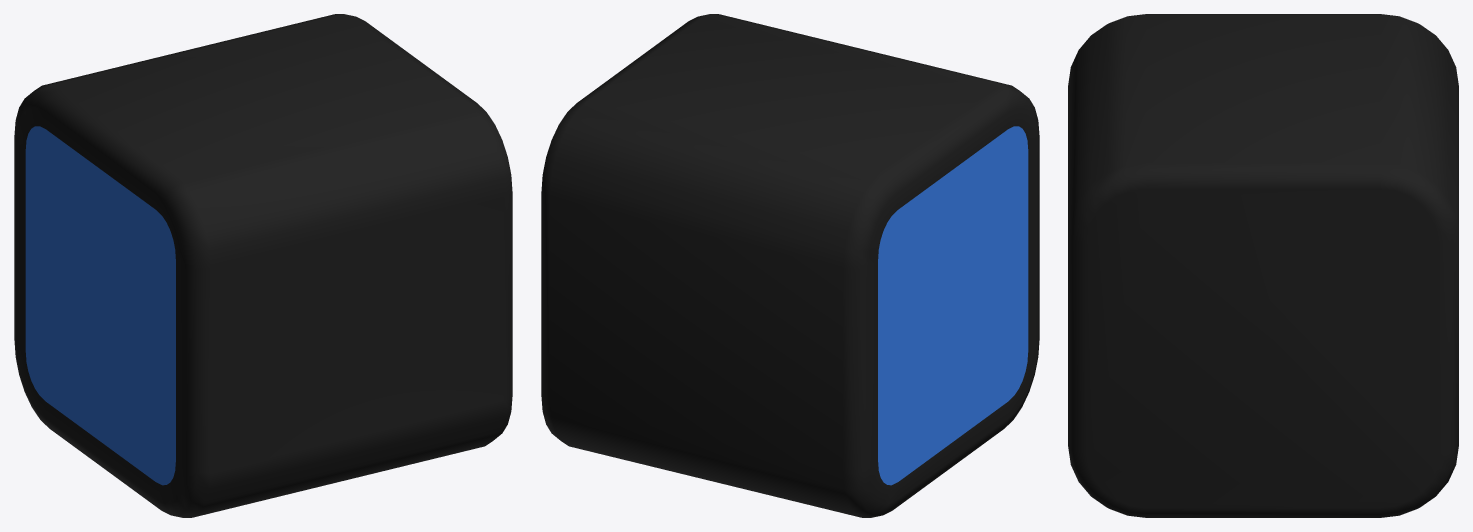
3 renders of one model, left to right at view 1: azimuth 30°, elevation 25°; view 2: azimuth 150°, elevation 25°; view 3: azimuth 270°, elevation 25°, orthographic. The views are drawn at different scales.
Visible parts, largest first — view 1: 11; view 2: 11; view 3: 11.
Boxes of the visible parts, x1,y1,x2,y2 form: 11: (14, 14, 512, 517); 11: (541, 14, 1039, 517); 11: (1068, 14, 1458, 517).
Bounding box in the file's own units: 2 × 2 × 2.
